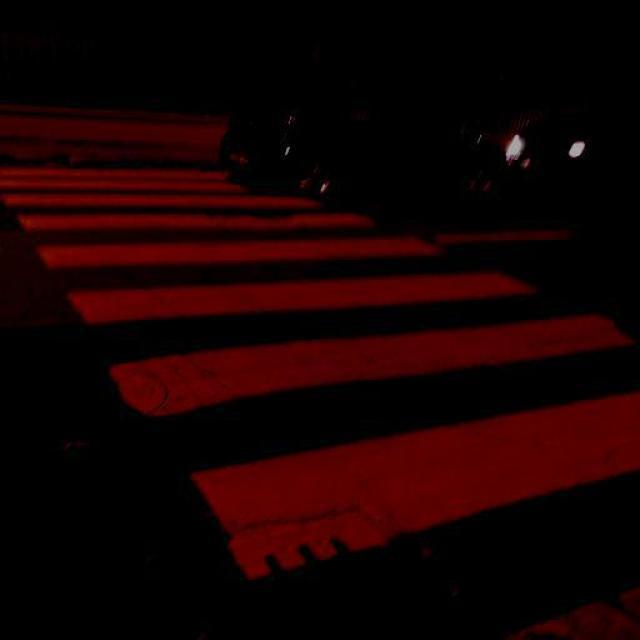crosswalk: (2, 165, 638, 589)
